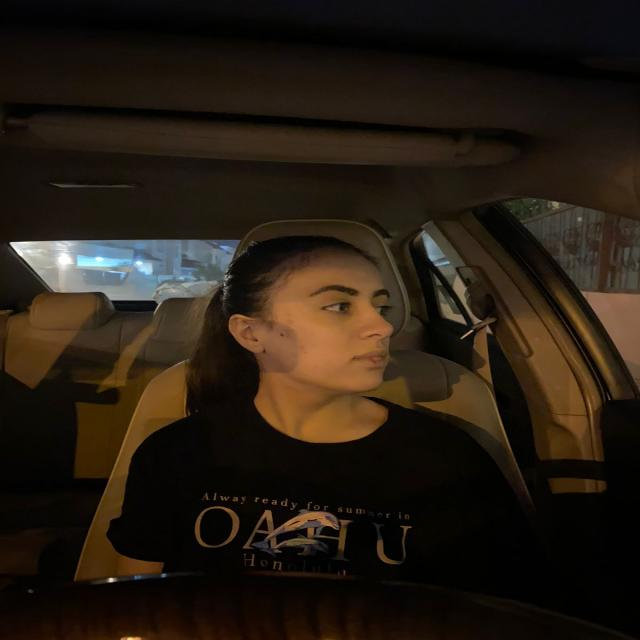person: (226, 244, 405, 399)
